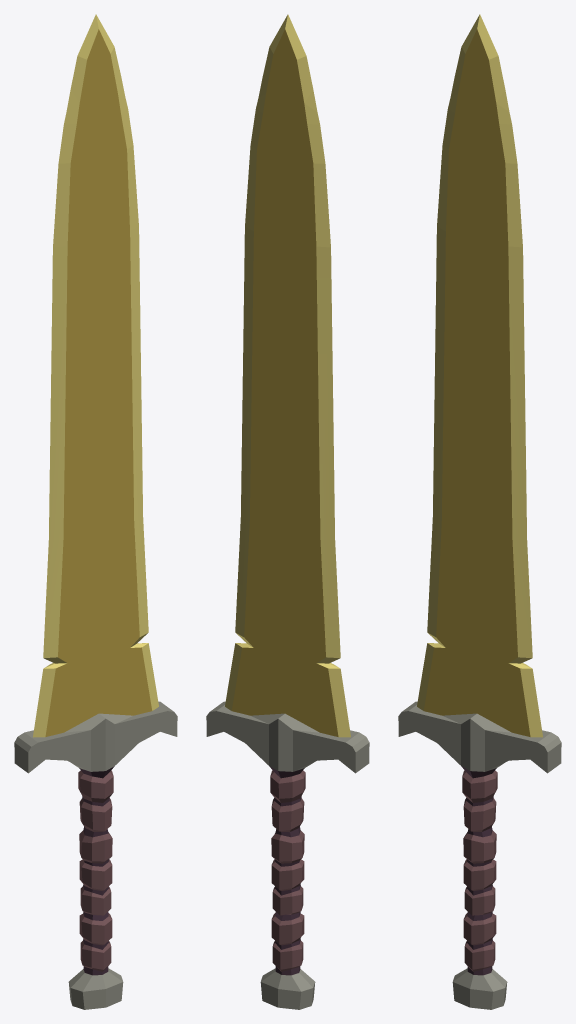
Rendered from sword_big_golden.glb.
The picture shows the model from 3 angles, left to right: view 1: azimuth 30°, elevation 25°; view 2: azimuth 150°, elevation 25°; view 3: azimuth 330°, elevation 25°; orthographic projection.
Parts seen in each view (by area): view 1: Sword_big_Golden; view 2: Sword_big_Golden; view 3: Sword_big_Golden.
Part boxes in pixels (x1,y1,x2,y2): Sword_big_Golden: [14, 14, 177, 1009]; Sword_big_Golden: [206, 14, 369, 1009]; Sword_big_Golden: [398, 14, 561, 1009].
Bounding box in the file's own units: 0.4331 × 2.73 × 0.1013.
